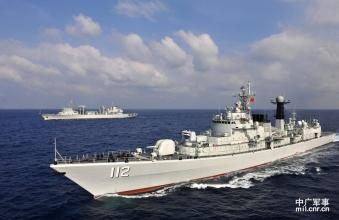warship: (48, 89, 335, 202), (39, 93, 139, 125)
